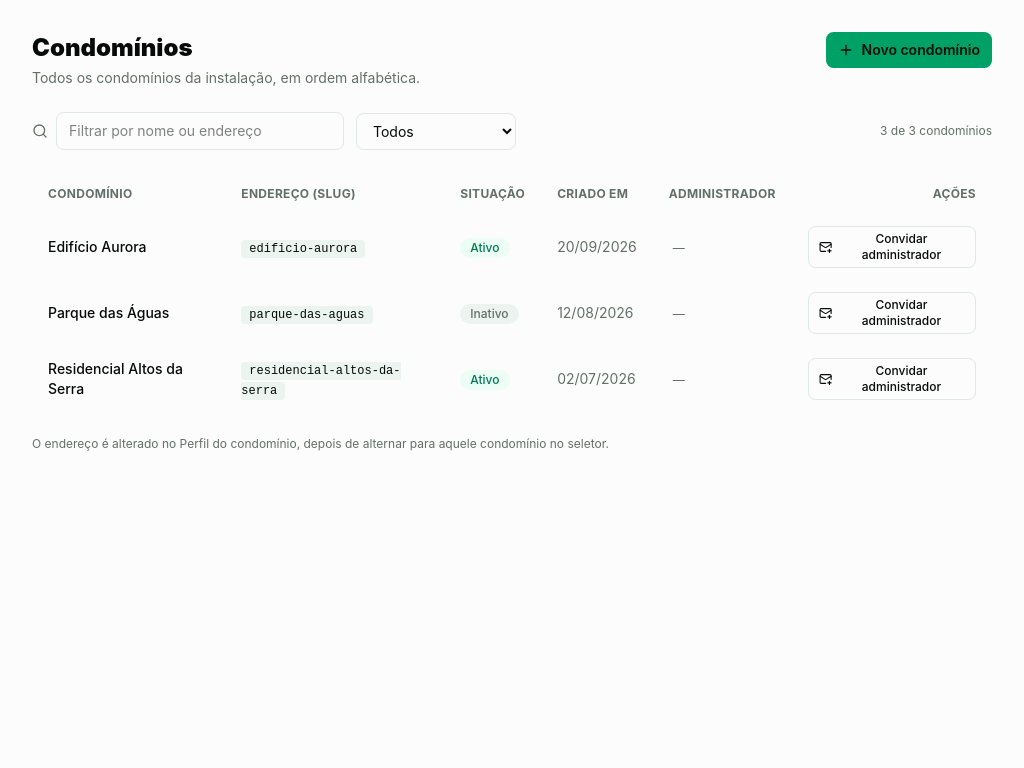
TenantsAdminPage creation › posts { name } only, shows the slug from the response and invalidates ['tenants']
Click the button "Novo condomínio" at (909, 50), box [826,32,992,68]
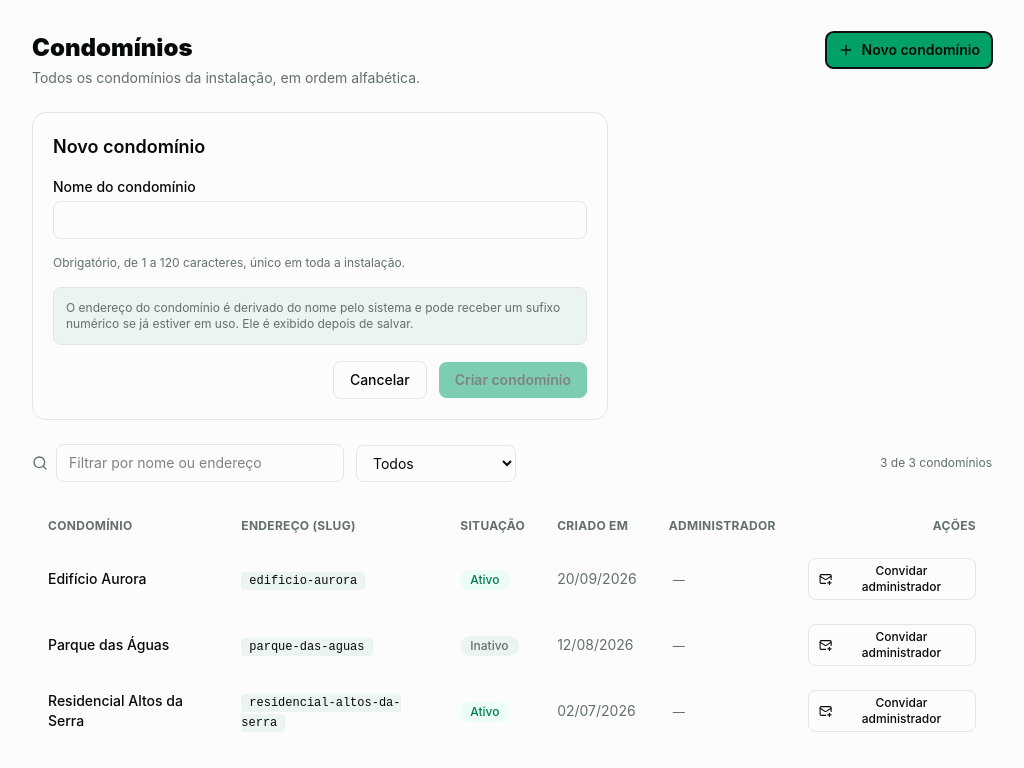
Type "Residencial Altos da Serra VI" into the field labelled "Nome do condomínio" at (320, 220), box [53,201,587,239]
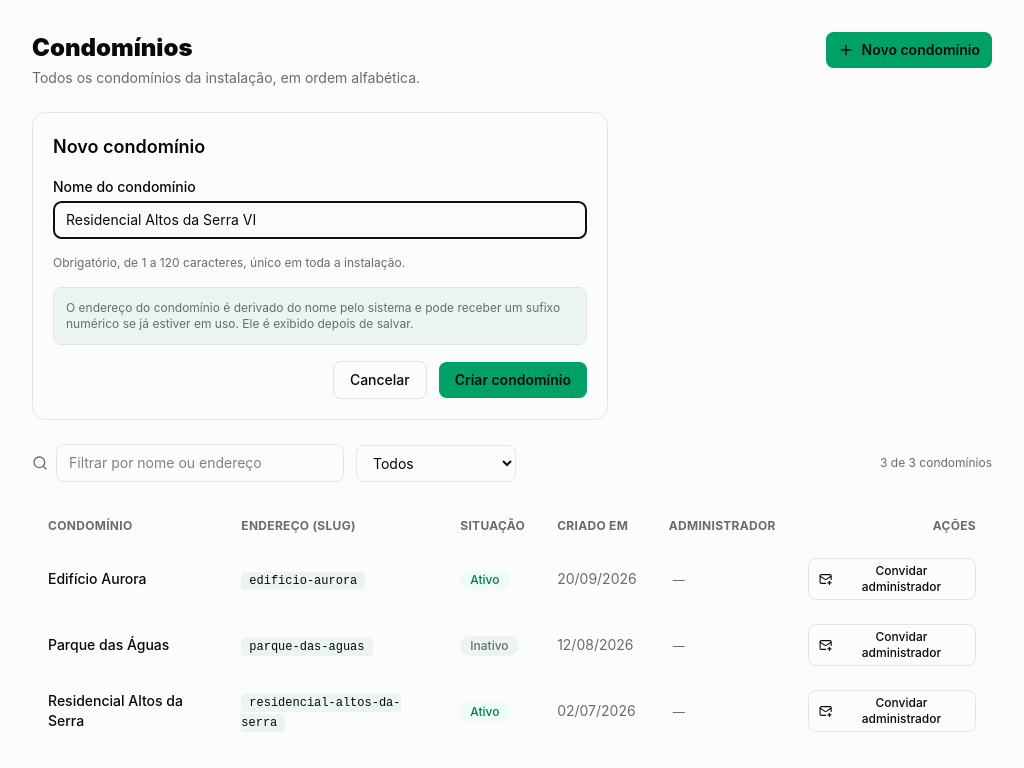
Click the button "Criar condomínio" at (513, 380), box [439,362,587,398]
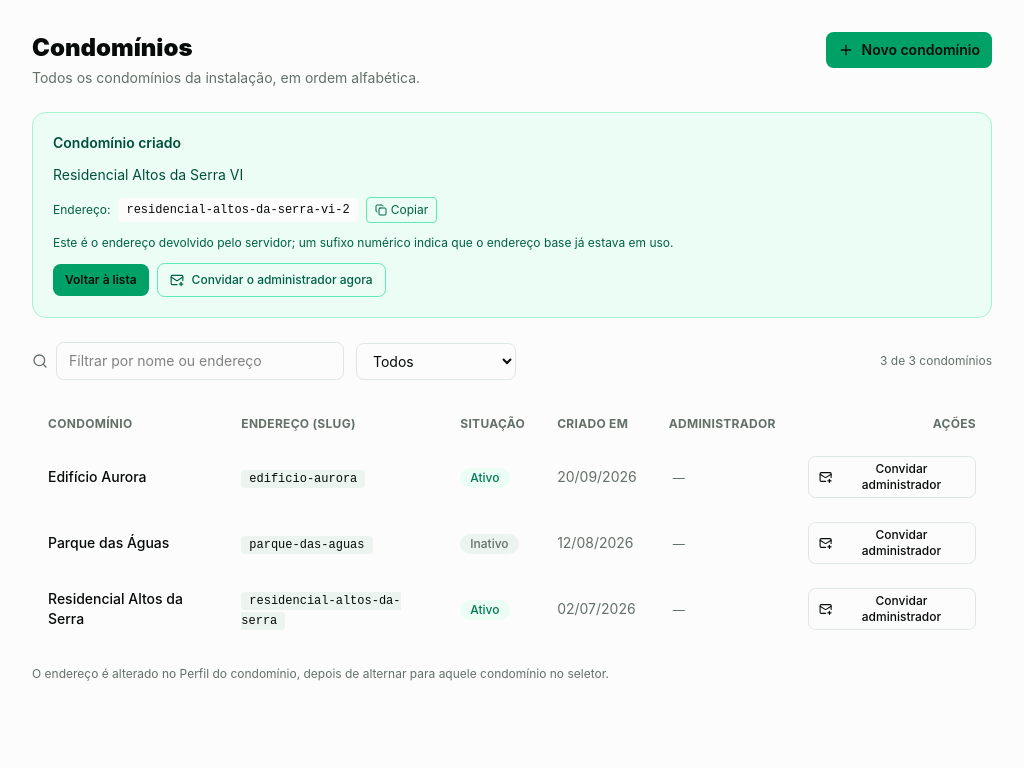
Expected: the text "residencial-altos-da-serra-vi-2" is shown, [118,198,358,222]
